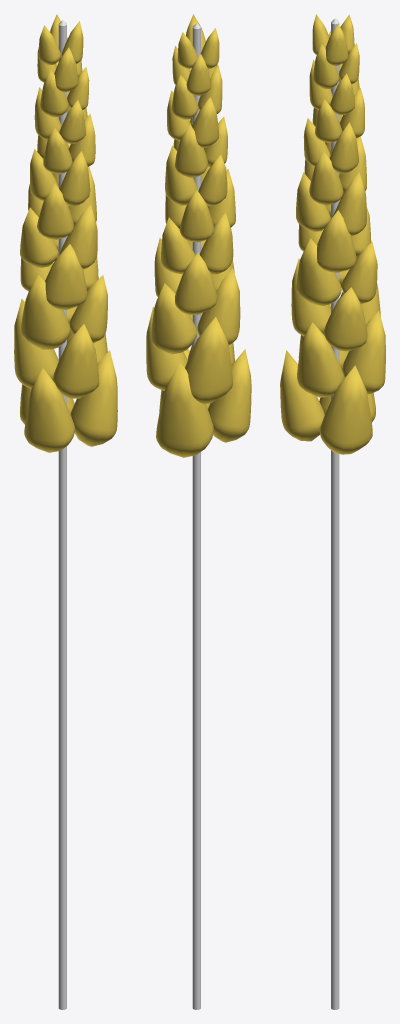
The model's file is Konopla(0.1).fbx.
3 renders of one model, left to right at view 1: azimuth 30°, elevation 25°; view 2: azimuth 150°, elevation 25°; view 3: azimuth 330°, elevation 25°, orthographic.
Visible parts, largest first — view 1: Cube, Cylinder; view 2: Cube, Cylinder; view 3: Cube, Cylinder.
Boxes of the visible parts, x1=… form: Cube: x1=14, y1=14, x2=117, y2=452; Cylinder: x1=58, y1=20, x2=66, y2=1009; Cube: x1=146, y1=14, x2=251, y2=457; Cylinder: x1=192, y1=23, x2=200, y2=1009; Cube: x1=280, y1=14, x2=385, y2=454; Cylinder: x1=331, y1=18, x2=339, y2=1009.
Bounding box in the file's own units: 246 × 2618 × 243.
